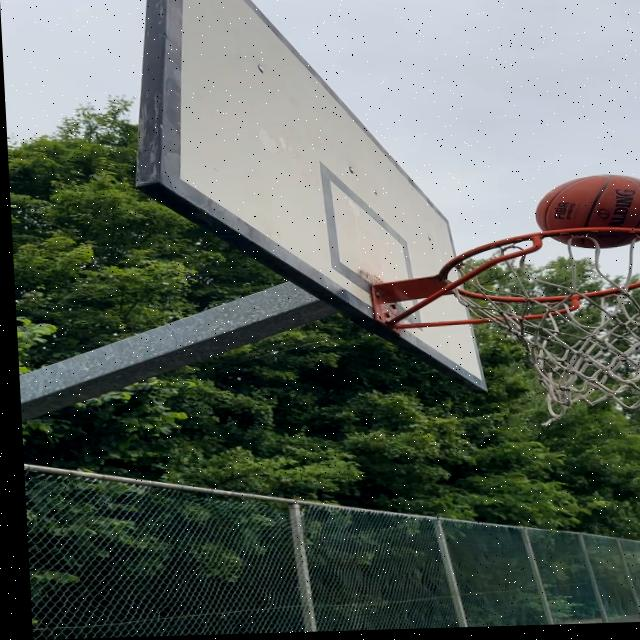rebound_hit: (534, 170, 640, 255)
